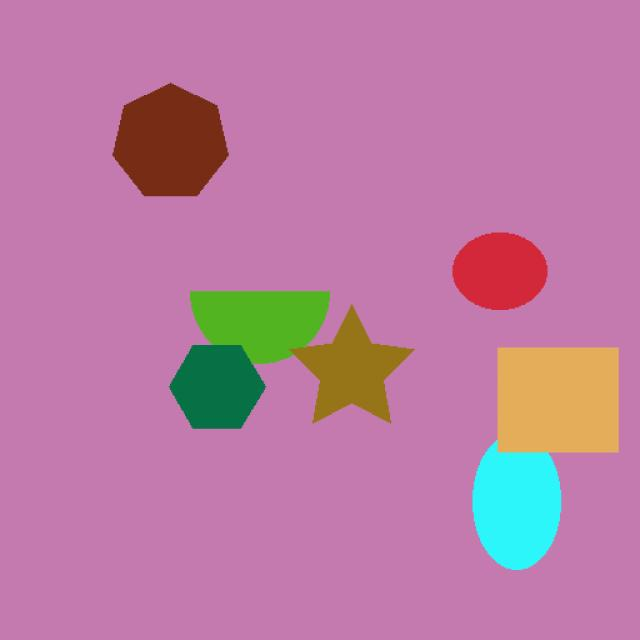Circle: (458, 420, 593, 580)
Heptagon: (101, 71, 238, 205)
Hexagon: (142, 328, 296, 453)
Oval: (439, 218, 582, 338)
Semicircle: (189, 285, 333, 368)
Star: (288, 300, 418, 433)
square: (482, 335, 640, 471)
